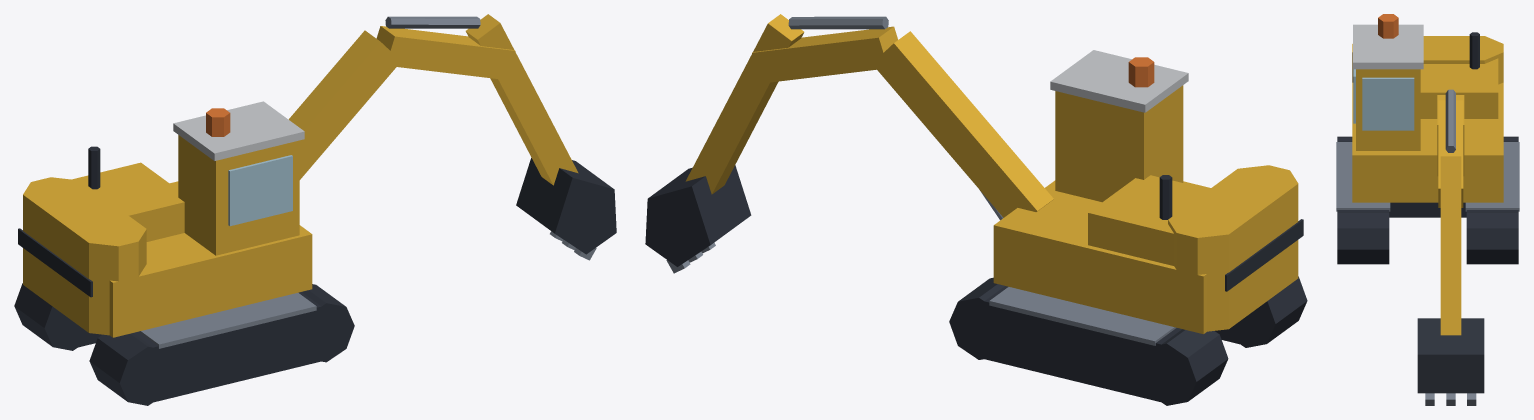
File: excavator.glb
3 renders of one model, left to right at view 1: azimuth 30°, elevation 25°; view 2: azimuth 150°, elevation 25°; view 3: azimuth 270°, elevation 25°, orthographic. The views are drawn at different scales.
Parts seen in each view (by area): view 1: turret, base, boom, arm; view 2: turret, base, boom, arm; view 3: turret, base, arm, boom.
Boxes of the visible parts, x1,y1,x2,y2 form: turret: (18,101,312,337); base: (14,283,354,405); boom: (289,16,515,179); arm: (465,14,616,260); turret: (993,50,1303,334); base: (949,276,1307,405); boom: (752,16,1053,220); arm: (645,14,804,273); turret: (1352,14,1503,202); base: (1336,136,1519,264); arm: (1417,156,1484,405); boom: (1437,89,1464,207).
Bounding box in the file's own units: 5.3 × 2.53 × 1.76.
